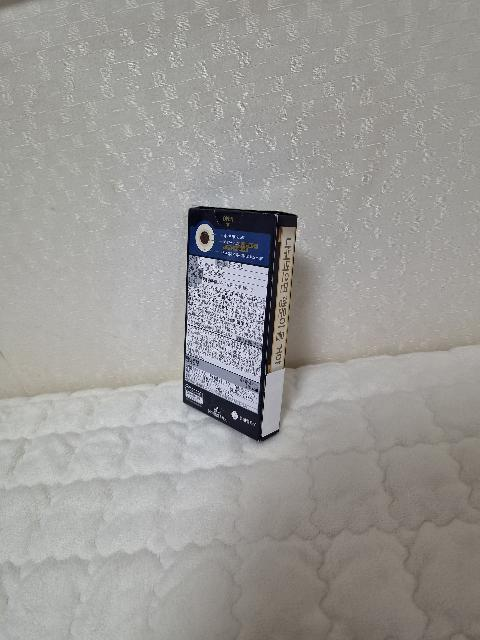pepero: (183, 205, 298, 443)
